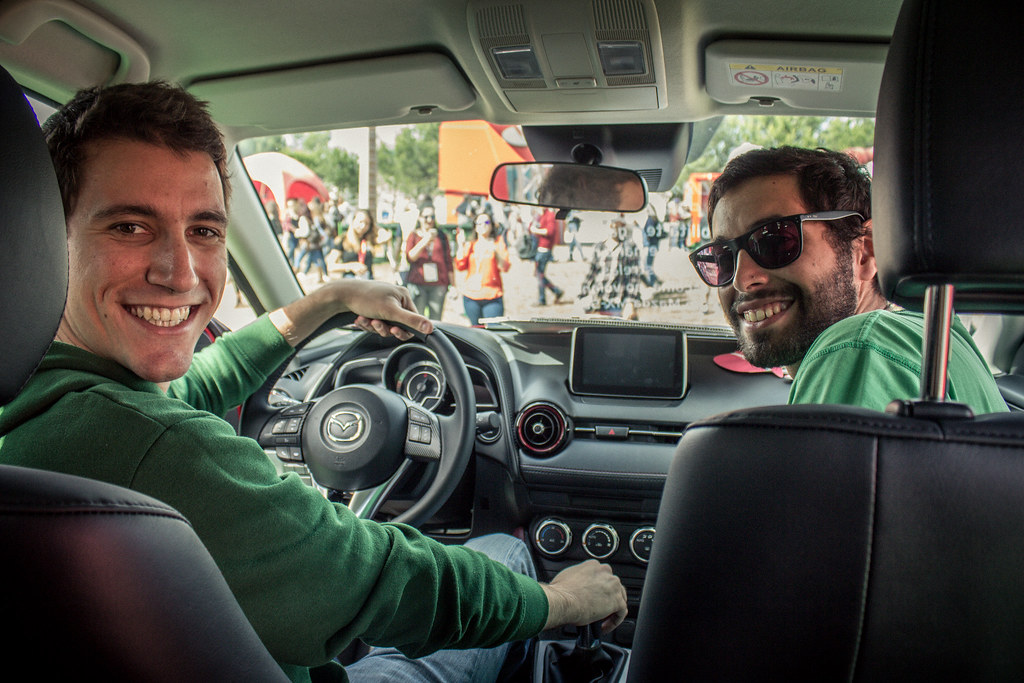person: (21, 69, 464, 683), (664, 109, 1019, 683)
